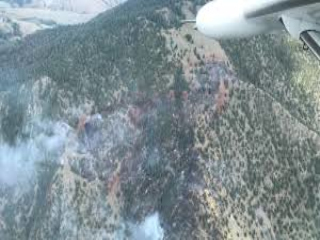smoke: (8, 113, 83, 188), (129, 206, 180, 239)
